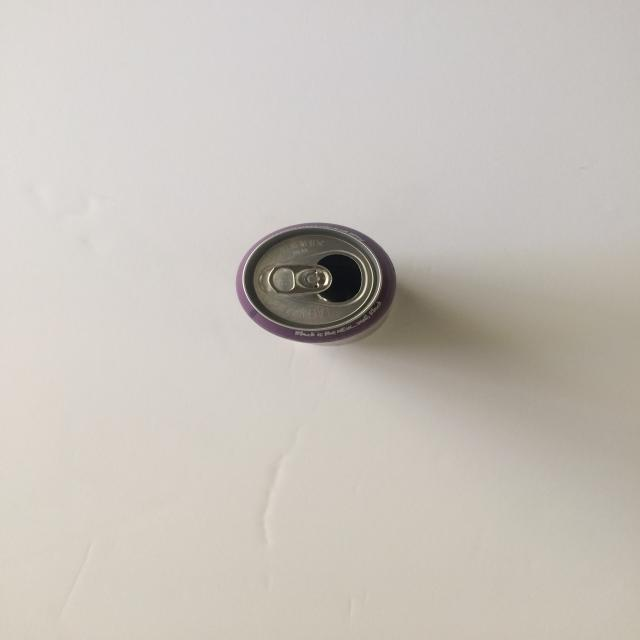metal: (235, 221, 397, 346)
